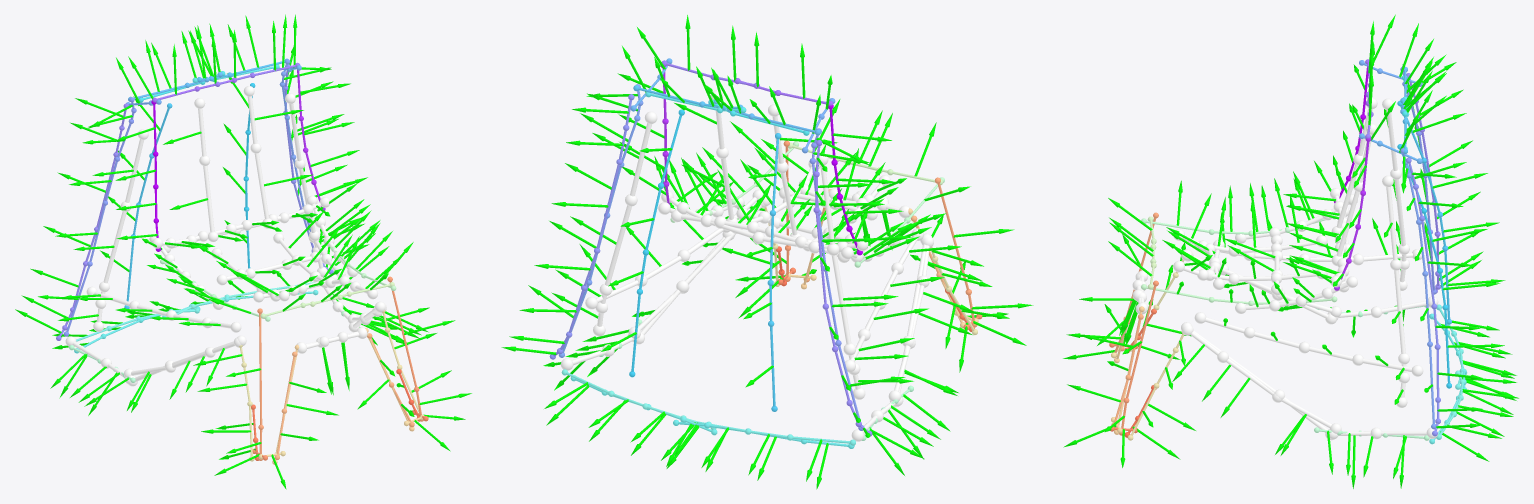
Rendered from author1_chair_ff.gltf.
The picture shows the model from 3 angles, left to right: view 1: azimuth 30°, elevation 25°; view 2: azimuth 150°, elevation 25°; view 3: azimuth 270°, elevation 25°; orthographic projection. The views are drawn at different scales.
Bounding box in the file's own units: 0.693 × 0.6905 × 0.7792.
